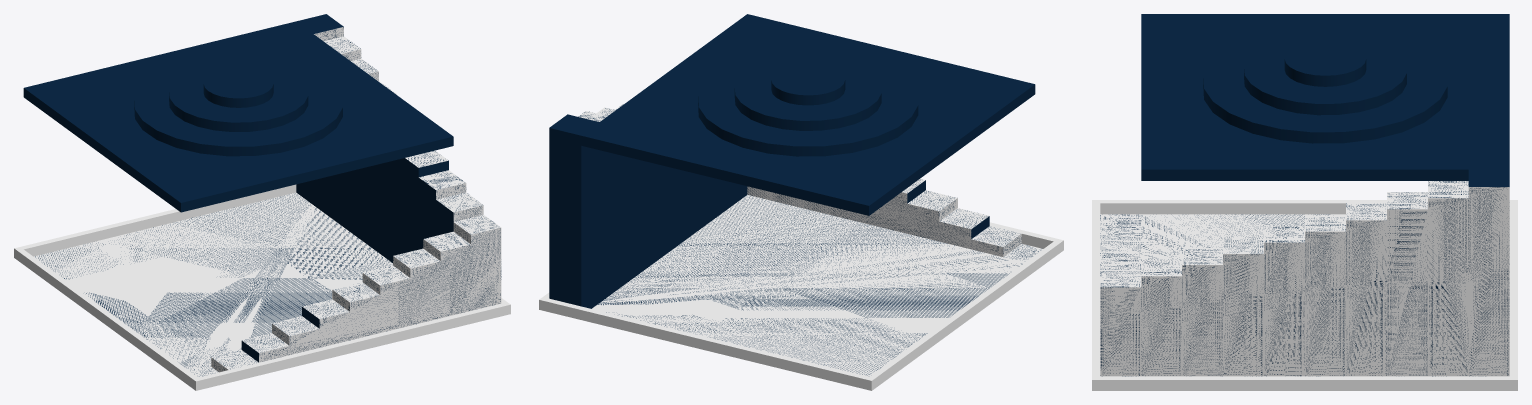
The model's file is Stage5.dae.
3 renders of one model, left to right at view 1: azimuth 30°, elevation 25°; view 2: azimuth 150°, elevation 25°; view 3: azimuth 270°, elevation 25°, orthographic. The views are drawn at different scales.
Parts seen in each view (by area): view 1: SketchUp (×8); view 2: SketchUp (×7); view 3: SketchUp (×8).
Part boxes in pixels (left/top/right/bottom): SketchUp (×8): left=14, top=14, right=510, bottom=390; SketchUp (×7): left=539, top=14, right=1063, bottom=390; SketchUp (×8): left=1092, top=14, right=1517, bottom=390.
Size of the model in its own units: 40.94 by 40.94 by 24.8.
